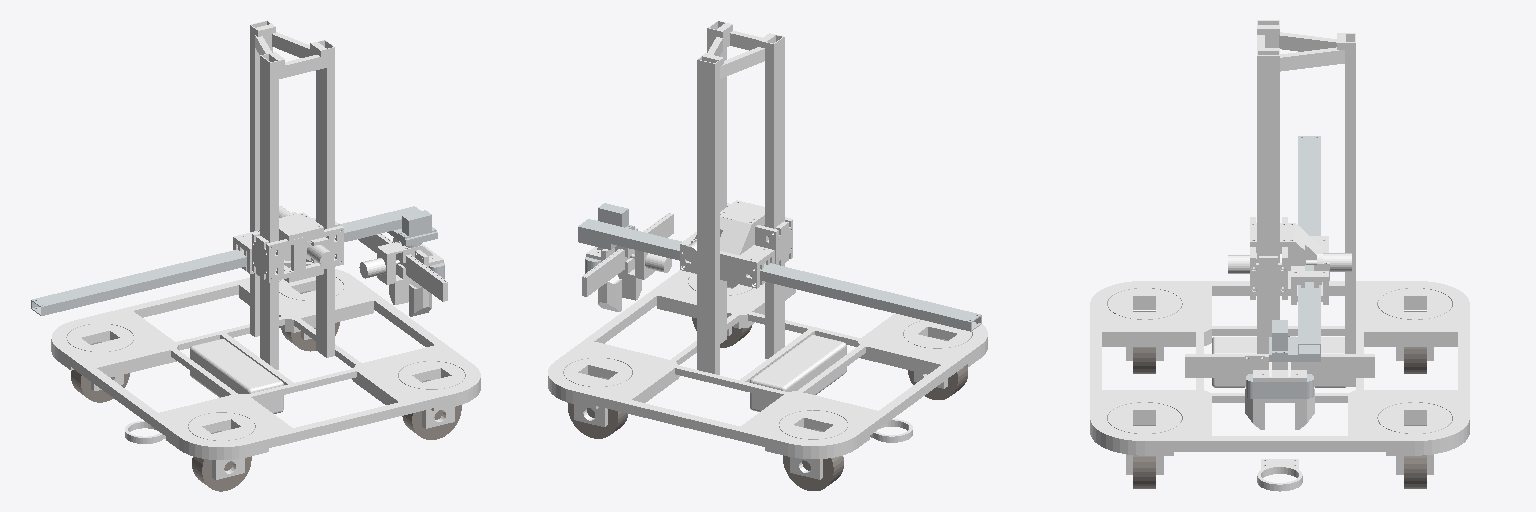
URDF robot description (wholeBodyURDF):
<?xml version="1.0" encoding="utf-8"?>
<!-- This URDF was automatically created by SolidWorks to URDF Exporter! Originally created by [author] ([email redacted]) 
     Commit Version: 1.6.0-4-g7f85cfe  Build Version: 1.6.7995.38578
     For more information, please see http://wiki.ros.org/sw_urdf_exporter -->
<robot
  name="wholeBodyURDF">
  <link
    name="base_link">
    <inertial>
      <origin
        xyz="-0.0063640587218205 0.00344444503199209 0.131744288819174"
        rpy="0 0 0" />
      <mass
        value="3.60307372978046" />
      <inertia
        ixx="0.0187833045283993"
        ixy="8.04052581274296E-19"
        ixz="4.08447495570179E-18"
        iyy="0.0161653640601633"
        iyz="4.64404314070441E-07"
        izz="0.0131334918251515" />
    </inertial>
    <visual>
      <origin
        xyz="0 0 0"
        rpy="0 0 0" />
      <geometry>
        <mesh
          filename="package://wholeBodyURDF/meshes/base_link.STL" />
      </geometry>
      <material
        name="">
        <color
          rgba="1 1 1 1" />
      </material>
    </visual>
    <collision>
      <origin
        xyz="0 0 0"
        rpy="0 0 0" />
      <geometry>
        <mesh
          filename="package://wholeBodyURDF/meshes/base_link.STL" />
      </geometry>
    </collision>
  </link>
  <link
    name="st_fr">
    <inertial>
      <origin
        xyz="-5.55111512312578E-17 1.38777878078145E-17 0.0517722817308295"
        rpy="0 0 0" />
      <mass
        value="0.221804775243313" />
      <inertia
        ixx="0.000211251147171327"
        ixy="1.61608127994414E-19"
        ixz="1.3964782722507E-21"
        iyy="0.000195922267849405"
        iyz="-2.06510424102861E-20"
        izz="0.000272151766439536" />
    </inertial>
    <visual>
      <origin
        xyz="0 0 0"
        rpy="0 0 0" />
      <geometry>
        <mesh
          filename="package://wholeBodyURDF/meshes/st_fr.STL" />
      </geometry>
      <material
        name="">
        <color
          rgba="1 1 1 1" />
      </material>
    </visual>
    <collision>
      <origin
        xyz="0 0 0"
        rpy="0 0 0" />
      <geometry>
        <mesh
          filename="package://wholeBodyURDF/meshes/st_fr.STL" />
      </geometry>
    </collision>
  </link>
  <joint
    name="st_fr"
    type="continuous">
    <origin
      xyz="0.177999999999999 -0.177999999999995 0.0269999999999998"
      rpy="0 0 0" />
    <parent
      link="base_link" />
    <child
      link="st_fr" />
    <axis
      xyz="0 0 1" />
  </joint>
  <link
    name="wh_fr">
    <inertial>
      <origin
        xyz="0 2.77555756156289E-17 1.38777878078145E-17"
        rpy="0 0 0" />
      <mass
        value="0.764764182848667" />
      <inertia
        ixx="0.000394618318349911"
        ixy="0"
        ixz="-2.69756475630885E-18"
        iyy="0.000394618318349911"
        iyz="-9.23310090821401E-19"
        izz="0.000674522009272522" />
    </inertial>
    <visual>
      <origin
        xyz="0 0 0"
        rpy="0 0 0" />
      <geometry>
        <mesh
          filename="package://wholeBodyURDF/meshes/wh_fr.STL" />
      </geometry>
      <material
        name="">
        <color
          rgba="0.686274509803922 0.658823529411765 0.63921568627451 1" />
      </material>
    </visual>
    <collision>
      <origin
        xyz="0 0 0"
        rpy="0 0 0" />
      <geometry>
        <mesh
          filename="package://wholeBodyURDF/meshes/wh_fr.STL" />
      </geometry>
    </collision>
  </link>
  <joint
    name="wh_fr"
    type="continuous">
    <origin
      xyz="0 0 0.015"
      rpy="-1.5707963267949 -0.316982240676282 3.14159265358979" />
    <parent
      link="st_fr" />
    <child
      link="wh_fr" />
    <axis
      xyz="0 0 1" />
  </joint>
  <link
    name="st_fl">
    <inertial>
      <origin
        xyz="0 5.55111512312578E-17 0.0517722817308295"
        rpy="0 0 0" />
      <mass
        value="0.221804775243313" />
      <inertia
        ixx="0.000211251147171327"
        ixy="1.64918956145697E-19"
        ixz="-6.94850311231198E-21"
        iyy="0.000195922267849405"
        iyz="-1.6213539128053E-20"
        izz="0.000272151766439536" />
    </inertial>
    <visual>
      <origin
        xyz="0 0 0"
        rpy="0 0 0" />
      <geometry>
        <mesh
          filename="package://wholeBodyURDF/meshes/st_fl.STL" />
      </geometry>
      <material
        name="">
        <color
          rgba="1 1 1 1" />
      </material>
    </visual>
    <collision>
      <origin
        xyz="0 0 0"
        rpy="0 0 0" />
      <geometry>
        <mesh
          filename="package://wholeBodyURDF/meshes/st_fl.STL" />
      </geometry>
    </collision>
  </link>
  <joint
    name="st_fl"
    type="continuous">
    <origin
      xyz="0.177999999999997 0.178000000000005 0.0269999999999998"
      rpy="0 0 0" />
    <parent
      link="base_link" />
    <child
      link="st_fl" />
    <axis
      xyz="0 0 1" />
  </joint>
  <link
    name="wh_fl">
    <inertial>
      <origin
        xyz="4.16333634234434E-17 -1.11022302462516E-16 -5.55111512312578E-17"
        rpy="0 0 0" />
      <mass
        value="0.764764182848668" />
      <inertia
        ixx="0.000394618318349912"
        ixy="0"
        ixz="-5.76769788137037E-19"
        iyy="0.000394618318349912"
        iyz="2.82484500819834E-18"
        izz="0.000674522009272523" />
    </inertial>
    <visual>
      <origin
        xyz="0 0 0"
        rpy="0 0 0" />
      <geometry>
        <mesh
          filename="package://wholeBodyURDF/meshes/wh_fl.STL" />
      </geometry>
      <material
        name="">
        <color
          rgba="0.686274509803922 0.658823529411765 0.63921568627451 1" />
      </material>
    </visual>
    <collision>
      <origin
        xyz="0 0 0"
        rpy="0 0 0" />
      <geometry>
        <mesh
          filename="package://wholeBodyURDF/meshes/wh_fl.STL" />
      </geometry>
    </collision>
  </link>
  <joint
    name="wh_fl"
    type="continuous">
    <origin
      xyz="0 0 0.015"
      rpy="-1.5707963267949 1.37893541128007 3.14159265358979" />
    <parent
      link="st_fl" />
    <child
      link="wh_fl" />
    <axis
      xyz="0 0 1" />
  </joint>
  <link
    name="st_bl">
    <inertial>
      <origin
        xyz="1.01307850997046E-15 -2.22044604925031E-16 0.0517722817308294"
        rpy="0 0 0" />
      <mass
        value="0.221804775243313" />
      <inertia
        ixx="0.000211251147171327"
        ixy="1.73641087609267E-19"
        ixz="2.22370021077419E-21"
        iyy="0.000195922267849405"
        iyz="-8.10200439331161E-20"
        izz="0.000272151766439536" />
    </inertial>
    <visual>
      <origin
        xyz="0 0 0"
        rpy="0 0 0" />
      <geometry>
        <mesh
          filename="package://wholeBodyURDF/meshes/st_bl.STL" />
      </geometry>
      <material
        name="">
        <color
          rgba="1 1 1 1" />
      </material>
    </visual>
    <collision>
      <origin
        xyz="0 0 0"
        rpy="0 0 0" />
      <geometry>
        <mesh
          filename="package://wholeBodyURDF/meshes/st_bl.STL" />
      </geometry>
    </collision>
  </link>
  <joint
    name="st_bl"
    type="continuous">
    <origin
      xyz="-0.178000000000007 0.178000000000001 0.0269999999999999"
      rpy="0 0 0" />
    <parent
      link="base_link" />
    <child
      link="st_bl" />
    <axis
      xyz="0 0 1" />
  </joint>
  <link
    name="wh_bl">
    <inertial>
      <origin
        xyz="4.85722573273506E-17 1.01307850997046E-15 1.66533453693773E-16"
        rpy="0 0 0" />
      <mass
        value="0.764764182848668" />
      <inertia
        ixx="0.000394618318349911"
        ixy="5.9292306307801E-21"
        ixz="3.25200755217582E-20"
        iyy="0.000394618318349911"
        iyz="2.91345943486874E-18"
        izz="0.000674522009272522" />
    </inertial>
    <visual>
      <origin
        xyz="0 0 0"
        rpy="0 0 0" />
      <geometry>
        <mesh
          filename="package://wholeBodyURDF/meshes/wh_bl.STL" />
      </geometry>
      <material
        name="">
        <color
          rgba="0.686274509803922 0.658823529411765 0.63921568627451 1" />
      </material>
    </visual>
    <collision>
      <origin
        xyz="0 0 0"
        rpy="0 0 0" />
      <geometry>
        <mesh
          filename="package://wholeBodyURDF/meshes/wh_bl.STL" />
      </geometry>
    </collision>
  </link>
  <joint
    name="wh_bl"
    type="continuous">
    <origin
      xyz="0 0 0.015"
      rpy="1.57079632679493 1.5497746785967 0" />
    <parent
      link="st_bl" />
    <child
      link="wh_bl" />
    <axis
      xyz="0 0 1" />
  </joint>
  <link
    name="st_br">
    <inertial>
      <origin
        xyz="-4.16333634234434E-17 0 0.0517722817308294"
        rpy="0 0 0" />
      <mass
        value="0.221804775243313" />
      <inertia
        ixx="0.000211251147171327"
        ixy="1.54955972003385E-19"
        ixz="-1.88217327241839E-20"
        iyy="0.000195922267849405"
        iyz="-5.1966875772215E-20"
        izz="0.000272151766439536" />
    </inertial>
    <visual>
      <origin
        xyz="0 0 0"
        rpy="0 0 0" />
      <geometry>
        <mesh
          filename="package://wholeBodyURDF/meshes/st_br.STL" />
      </geometry>
      <material
        name="">
        <color
          rgba="1 1 1 1" />
      </material>
    </visual>
    <collision>
      <origin
        xyz="0 0 0"
        rpy="0 0 0" />
      <geometry>
        <mesh
          filename="package://wholeBodyURDF/meshes/st_br.STL" />
      </geometry>
    </collision>
  </link>
  <joint
    name="st_br"
    type="continuous">
    <origin
      xyz="-0.178000000000001 -0.177999999999999 0.0269999999999998"
      rpy="0 0 0" />
    <parent
      link="base_link" />
    <child
      link="st_br" />
    <axis
      xyz="0 0 1" />
  </joint>
  <link
    name="wh_br">
    <inertial>
      <origin
        xyz="0 2.77555756156289E-17 -1.38777878078145E-17"
        rpy="0 0 0" />
      <mass
        value="0.764764182848667" />
      <inertia
        ixx="0.000394618318349911"
        ixy="0"
        ixz="-2.39690680958223E-18"
        iyy="0.000394618318349911"
        iyz="-1.41128220680051E-18"
        izz="0.000674522009272522" />
    </inertial>
    <visual>
      <origin
        xyz="0 0 0"
        rpy="0 0 0" />
      <geometry>
        <mesh
          filename="package://wholeBodyURDF/meshes/wh_br.STL" />
      </geometry>
      <material
        name="">
        <color
          rgba="0.686274509803922 0.658823529411765 0.63921568627451 1" />
      </material>
    </visual>
    <collision>
      <origin
        xyz="0 0 0"
        rpy="0 0 0" />
      <geometry>
        <mesh
          filename="package://wholeBodyURDF/meshes/wh_br.STL" />
      </geometry>
    </collision>
  </link>
  <joint
    name="wh_br"
    type="continuous">
    <origin
      xyz="0 0 0.015"
      rpy="-1.5707963267949 -0.57401915441884 3.14159265358979" />
    <parent
      link="st_br" />
    <child
      link="wh_br" />
    <axis
      xyz="0 0 1" />
  </joint>
  <link
    name="arm_y">
    <inertial>
      <origin
        xyz="0.0609996816961276 0.0276969527606289 -0.0419922652659061"
        rpy="0 0 0" />
      <mass
        value="0.726470638495085" />
      <inertia
        ixx="0.000427256684409531"
        ixy="-4.94499408650023E-06"
        ixz="-1.47689404175355E-05"
        iyy="0.000915984224843616"
        iyz="-3.46118593731465E-05"
        izz="0.000755880517298889" />
    </inertial>
    <visual>
      <origin
        xyz="0 0 0"
        rpy="0 0 0" />
      <geometry>
        <mesh
          filename="package://wholeBodyURDF/meshes/arm_y.STL" />
      </geometry>
      <material
        name="">
        <color
          rgba="1 1 1 1" />
      </material>
    </visual>
    <collision>
      <origin
        xyz="0 0 0"
        rpy="0 0 0" />
      <geometry>
        <mesh
          filename="package://wholeBodyURDF/meshes/arm_y.STL" />
      </geometry>
    </collision>
  </link>
  <joint
    name="arm_y"
    type="prismatic">
    <origin
      xyz="-0.01 -0.03 0.238"
      rpy="1.5708 0 0" />
    <parent
      link="base_link" />
    <child
      link="arm_y" />
    <axis
      xyz="0 -1 0" />
    <limit
      lower="0"
      upper="0.24"
      effort="0"
      velocity="0.628" />
  </joint>
  <link
    name="arm_x">
    <inertial>
      <origin
        xyz="-0.13600988754684 0.0156753810039397 0.0403235899544947"
        rpy="0 0 0" />
      <mass
        value="0.403926513543648" />
      <inertia
        ixx="7.01329626668586E-05"
        ixy="-2.89146989288094E-07"
        ixz="5.06356873701848E-07"
        iyy="0.00784738937393705"
        iyz="3.88304508826301E-07"
        izz="0.00782865271260482" />
    </inertial>
    <visual>
      <origin
        xyz="0 0 0"
        rpy="0 0 0" />
      <geometry>
        <mesh
          filename="package://wholeBodyURDF/meshes/arm_x.STL" />
      </geometry>
      <material
        name="">
        <color
          rgba="0.898039215686275 0.917647058823529 0.929411764705882 1" />
      </material>
    </visual>
    <collision>
      <origin
        xyz="0 0 0"
        rpy="0 0 0" />
      <geometry>
        <mesh
          filename="package://wholeBodyURDF/meshes/arm_x.STL" />
      </geometry>
    </collision>
  </link>
  <joint
    name="arm_x"
    type="prismatic">
    <origin
      xyz="0.239 -0.008 -0.094"
      rpy="0 0 0" />
    <parent
      link="arm_y" />
    <child
      link="arm_x" />
    <axis
      xyz="1 0 0" />
    <limit
      lower="0"
      upper="0.33"
      effort="0"
      velocity="0.628" />
  </joint>
  <link
    name="arm_theta">
    <inertial>
      <origin
        xyz="-0.0313547861803388 3.34437389892805E-07 -0.0245135454254172"
        rpy="0 0 0" />
      <mass
        value="0.244323369120914" />
      <inertia
        ixx="0.000467518886603794"
        ixy="-2.72240490764472E-09"
        ixz="-2.68526755260379E-06"
        iyy="8.30220602981342E-05"
        iyz="-3.65961708697028E-10"
        izz="0.000499167069990237" />
    </inertial>
    <visual>
      <origin
        xyz="0 0 0"
        rpy="0 0 0" />
      <geometry>
        <mesh
          filename="package://wholeBodyURDF/meshes/arm_theta.STL" />
      </geometry>
      <material
        name="">
        <color
          rgba="1 1 1 1" />
      </material>
    </visual>
    <collision>
      <origin
        xyz="0 0 0"
        rpy="0 0 0" />
      <geometry>
        <mesh
          filename="package://wholeBodyURDF/meshes/arm_theta.STL" />
      </geometry>
    </collision>
  </link>
  <joint
    name="arm_theta"
    type="revolute">
    <origin
      xyz="0.017 -0.006 0.064"
      rpy="-1.5708 0 0" />
    <parent
      link="arm_x" />
    <child
      link="arm_theta" />
    <axis
      xyz="0 0 -1" />
    <limit
      lower="-1.57"
      upper="1.57"
      effort="0"
      velocity="6.97" />
  </joint>
  <link
    name="arm_fl">
    <inertial>
      <origin
        xyz="-0.0387037248580023 -0.054788354097862 0.0170999999999999"
        rpy="0 0 0" />
      <mass
        value="0.0537898277625993" />
      <inertia
        ixx="3.60749821809345E-05"
        ixy="-1.87821335951942E-06"
        ixz="-3.34833772471826E-21"
        iyy="5.36362582511731E-06"
        iyz="-2.20893519012188E-20"
        izz="3.59719986476952E-05" />
    </inertial>
    <visual>
      <origin
        xyz="0 0 0"
        rpy="0 0 0" />
      <geometry>
        <mesh
          filename="package://wholeBodyURDF/meshes/arm_fl.STL" />
      </geometry>
      <material
        name="">
        <color
          rgba="1 1 1 1" />
      </material>
    </visual>
    <collision>
      <origin
        xyz="0 0 0"
        rpy="0 0 0" />
      <geometry>
        <mesh
          filename="package://wholeBodyURDF/meshes/arm_fl.STL" />
      </geometry>
    </collision>
  </link>
  <joint
    name="arm_fl"
    type="prismatic">
    <origin
      xyz="-0.0183 0.07 -0.0095"
      rpy="1.5708 0 1.5708" />
    <parent
      link="arm_theta" />
    <child
      link="arm_fl" />
    <axis
      xyz="1 0 0" />
    <limit
      lower="0"
      upper="0.067"
      effort="0"
      velocity="0.628" />
  </joint>
  <link
    name="arm_fr">
    <inertial>
      <origin
        xyz="-0.0387037248579974 -0.054788354097862 -0.0170999999999998"
        rpy="0 0 0" />
      <mass
        value="0.0537898277625993" />
      <inertia
        ixx="3.60749821809345E-05"
        ixy="-1.87821335951935E-06"
        ixz="9.9863845409203E-22"
        iyy="5.36362582511731E-06"
        iyz="1.8021630985029E-20"
        izz="3.59719986476952E-05" />
    </inertial>
    <visual>
      <origin
        xyz="0 0 0"
        rpy="0 0 0" />
      <geometry>
        <mesh
          filename="package://wholeBodyURDF/meshes/arm_fr.STL" />
      </geometry>
      <material
        name="">
        <color
          rgba="1 1 1 1" />
      </material>
    </visual>
    <collision>
      <origin
        xyz="0 0 0"
        rpy="0 0 0" />
      <geometry>
        <mesh
          filename="package://wholeBodyURDF/meshes/arm_fr.STL" />
      </geometry>
    </collision>
  </link>
  <joint
    name="arm_fr"
    type="prismatic">
    <origin
      xyz="-0.0183 -0.07 -0.0095"
      rpy="1.5708 0 -1.5708" />
    <parent
      link="arm_theta" />
    <child
      link="arm_fr" />
    <axis
      xyz="-1 0 0" />
    <limit
      lower="0"
      upper="0.067"
      effort="0"
      velocity="0.628" />
  </joint>
  <link
    name="real_sense">
    <inertial>
      <origin
        xyz="1.66533453693773E-16 0.00249999999999995 -0.0124939870441668"
        rpy="0 0 0" />
      <mass
        value="0.09971560426137" />
      <inertia
        ixx="1.01606371320999E-05"
        ixy="-1.42136419735179E-20"
        ixz="9.22459105367906E-21"
        iyy="6.79256988925492E-05"
        iyz="-8.50346426979379E-22"
        izz="6.77076953219926E-05" />
    </inertial>
    <visual>
      <origin
        xyz="0 0 0"
        rpy="0 0 0" />
      <geometry>
        <mesh
          filename="package://wholeBodyURDF/meshes/real_sense.STL" />
      </geometry>
      <material
        name="">
        <color
          rgba="0.898039215686275 0.917647058823529 0.929411764705882 1" />
      </material>
    </visual>
    <collision>
      <origin
        xyz="0 0 0"
        rpy="0 0 0" />
      <geometry>
        <mesh
          filename="package://wholeBodyURDF/meshes/real_sense.STL" />
      </geometry>
    </collision>
  </link>
  <joint
    name="real_sense"
    type="fixed">
    <origin
      xyz="0.025 0 -0.05"
      rpy="-3.1416 0 -1.5708" />
    <parent
      link="arm_theta" />
    <child
      link="real_sense" />
    <axis
      xyz="0 0 0" />
  </joint>
  <link
    name="lidar_f">
    <inertial>
      <origin
        xyz="-0.0216371469729971 2.77555756156289E-16 0.0175000000000003"
        rpy="0 0 0" />
      <mass
        value="0.0263437637432229" />
      <inertia
        ixx="8.01818206217676E-06"
        ixy="-3.15418367345981E-20"
        ixz="2.6391361782136E-21"
        iyy="1.45077204086614E-05"
        iyz="1.2260664369553E-22"
        izz="2.20868397417844E-05" />
    </inertial>
    <visual>
      <origin
        xyz="0 0 0"
        rpy="0 0 0" />
      <geometry>
        <mesh
          filename="package://wholeBodyURDF/meshes/lidar_f.STL" />
      </geometry>
      <material
        name="">
        <color
          rgba="1 1 1 1" />
      </material>
    </visual>
    <collision>
      <origin
        xyz="0 0 0"
        rpy="0 0 0" />
      <geometry>
        <mesh
          filename="package://wholeBodyURDF/meshes/lidar_f.STL" />
      </geometry>
    </collision>
  </link>
  <joint
    name="lidar_f"
    type="fixed">
    <origin
      xyz="0.205 0 0.0405"
      rpy="3.1416 0 0" />
    <parent
      link="base_link" />
    <child
      link="lidar_f" />
    <axis
      xyz="0 0 0" />
  </joint>
  <link
    name="lidar_b">
    <inertial>
      <origin
        xyz="-0.0216371469729972 1.66533453693773E-16 0.0175000000000001"
        rpy="0 0 0" />
      <mass
        value="0.0263437637432229" />
      <inertia
        ixx="8.01818206217676E-06"
        ixy="-2.59893462575715E-20"
        ixz="9.01300691237274E-23"
        iyy="1.45077204086613E-05"
        iyz="-2.5019069915522E-23"
        izz="2.20868397417844E-05" />
    </inertial>
    <visual>
      <origin
        xyz="0 0 0"
        rpy="0 0 0" />
      <geometry>
        <mesh
          filename="package://wholeBodyURDF/meshes/lidar_b.STL" />
      </geometry>
      <material
        name="">
        <color
          rgba="1 1 1 1" />
      </material>
    </visual>
    <collision>
      <origin
        xyz="0 0 0"
        rpy="0 0 0" />
      <geometry>
        <mesh
          filename="package://wholeBodyURDF/meshes/lidar_b.STL" />
      </geometry>
    </collision>
  </link>
  <joint
    name="lidar_b"
    type="fixed">
    <origin
      xyz="-0.205 0 0.0405"
      rpy="3.1416 0 -3.1416" />
    <parent
      link="base_link" />
    <child
      link="lidar_b" />
    <axis
      xyz="0 0 0" />
  </joint>
</robot>

--- Facts derived from the render (not from the file) ---
3 views of the same robot in one strip: view 1: azimuth 30°, elevation 25°; view 2: azimuth 150°, elevation 25°; view 3: azimuth 270°, elevation 25° (orthographic).
Model wholeBodyURDF with 17 links and 16 joints (1 revolute, 8 continuous, 4 prismatic, 3 fixed), rooted at base_link, posed all joints at 0.
Links seen in each view (by area): view 1: base_link, arm_x, arm_y, arm_theta, st_br, st_fr, st_bl, wh_br, wh_fr, st_fl, arm_fr, wh_bl; view 2: base_link, arm_x, arm_y, arm_theta, st_bl, st_fl, st_br, wh_bl, wh_fl, arm_fl, wh_br, lidar_b; view 3: base_link, arm_y, arm_x, arm_theta, st_fl, st_fr, st_br, st_bl, real_sense, lidar_f, arm_fr, wh_fr (+4 smaller).
Link boxes in pixels (box(x1,y1,x2,y2)): base_link: box(51, 20, 480, 459); arm_x: box(31, 206, 437, 315); arm_y: box(233, 206, 343, 282); arm_theta: box(358, 233, 447, 301); st_br: box(188, 413, 254, 479); st_fr: box(399, 361, 464, 428); st_bl: box(67, 324, 133, 390); wh_br: box(192, 431, 251, 491); wh_fr: box(402, 380, 461, 439); st_fl: box(279, 276, 343, 339); arm_fr: box(409, 250, 431, 316); wh_bl: box(71, 342, 129, 402); base_link: box(548, 21, 987, 458); arm_x: box(578, 203, 981, 331); arm_y: box(680, 200, 792, 288); arm_theta: box(582, 213, 673, 296); st_bl: box(779, 410, 847, 479); st_fl: box(564, 358, 631, 426); st_br: box(904, 321, 971, 388); wh_bl: box(783, 429, 843, 490); wh_fl: box(568, 377, 627, 438); arm_fl: box(598, 247, 621, 311); wh_br: box(908, 338, 967, 399); lidar_b: box(870, 419, 912, 442); base_link: box(1090, 20, 1469, 455); arm_y: box(1228, 217, 1351, 304); arm_x: box(1269, 136, 1320, 361); arm_theta: box(1185, 354, 1374, 381); st_fl: box(1378, 402, 1451, 474); st_fr: box(1108, 402, 1181, 474); st_br: box(1108, 288, 1181, 360); st_bl: box(1378, 288, 1451, 360); real_sense: box(1246, 374, 1313, 398); lidar_f: box(1257, 459, 1302, 491); arm_fr: box(1245, 354, 1264, 429); wh_fr: box(1133, 425, 1155, 488).
Size in the robot's own frame: 0.65 by 0.5 by 0.588 metres.
17 mesh visuals loaded from 17 distinct referenced files (17 binary STL).